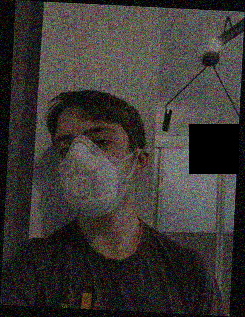with_mask: (52, 121, 130, 216)
